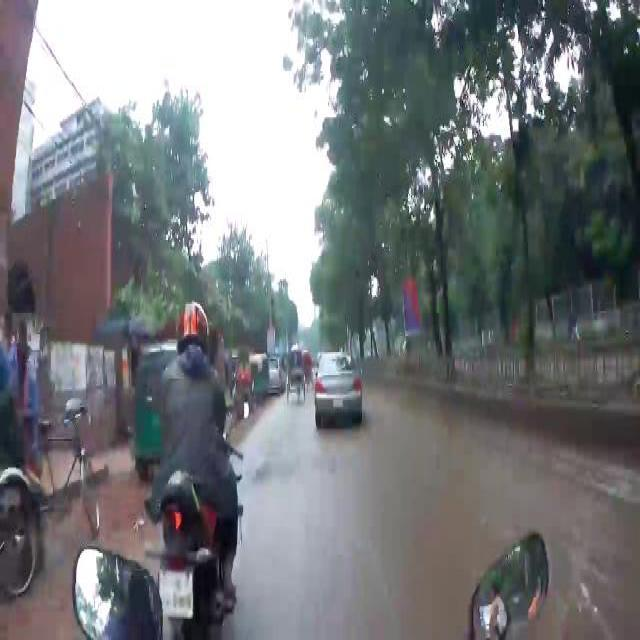bike: (142, 398, 247, 640)
vehicle: (313, 352, 367, 436), (283, 341, 310, 411)
